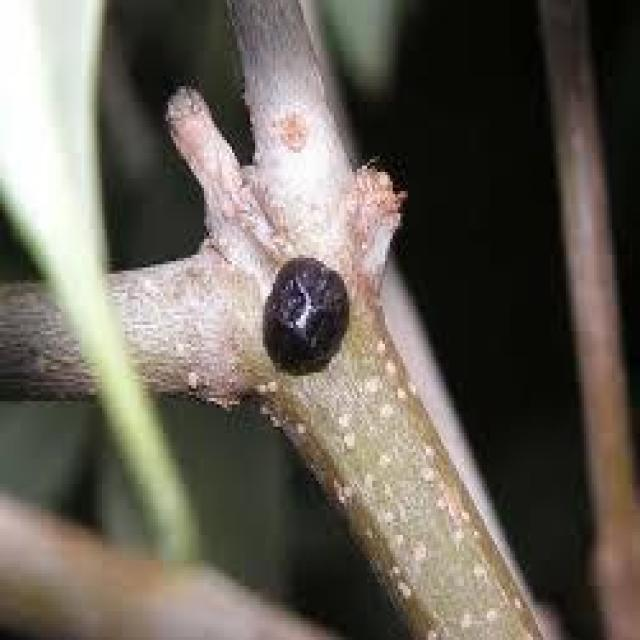Anthracnose: (262, 258, 350, 372)
